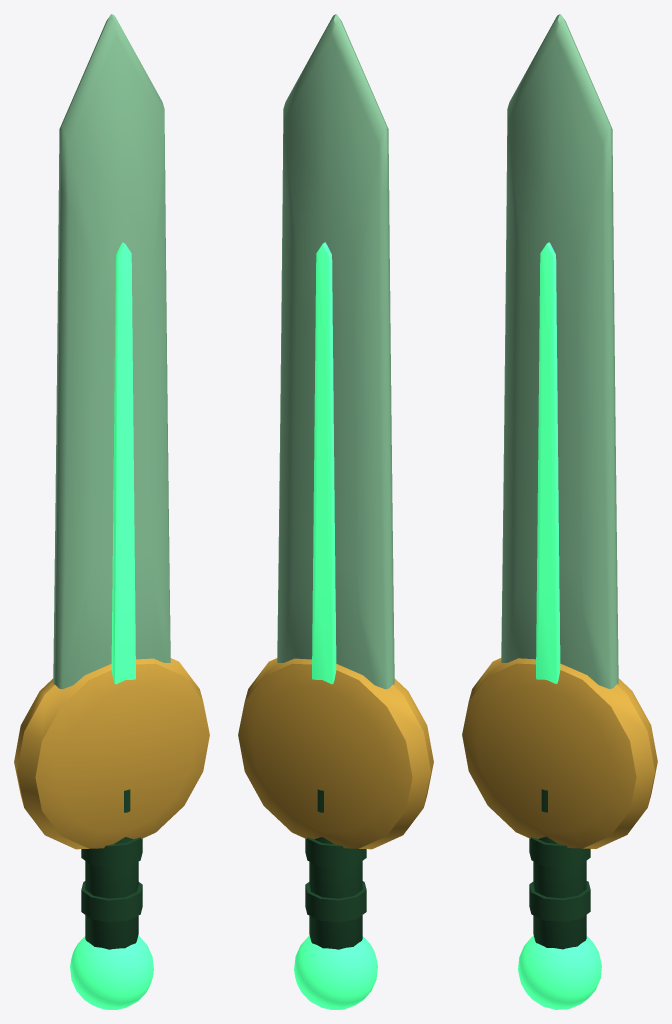
The model's file is jade.glb.
The picture shows the model from 3 angles, left to right: view 1: azimuth 30°, elevation 25°; view 2: azimuth 150°, elevation 25°; view 3: azimuth 330°, elevation 25°; orthographic projection.
Parts seen in each view (by area): view 1: wpn_jade; view 2: wpn_jade; view 3: wpn_jade.
Part boxes in pixels (x1,y1,x2,y2): wpn_jade: [14, 14, 209, 1009]; wpn_jade: [238, 14, 433, 1009]; wpn_jade: [462, 14, 657, 1009].
Bounding box in the file's own units: 0.364 × 1.82 × 0.14.
